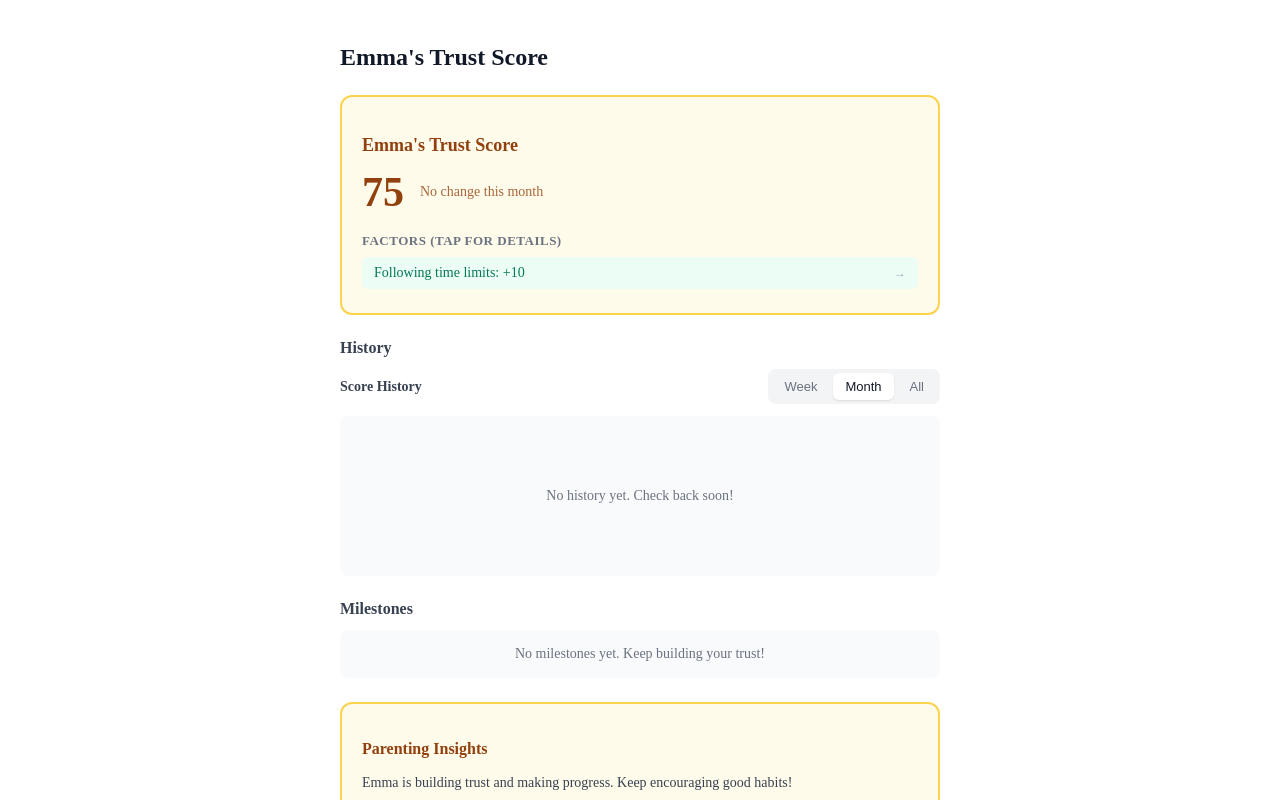
Test: ParentTrustScoreView - Story 36.4 Task 6 › Factor detail modal › should close modal when close button clicked
// Open modal
Click the button with test id "parent-factor-0" at (449, 273), box left=362, top=257, right=918, bottom=289
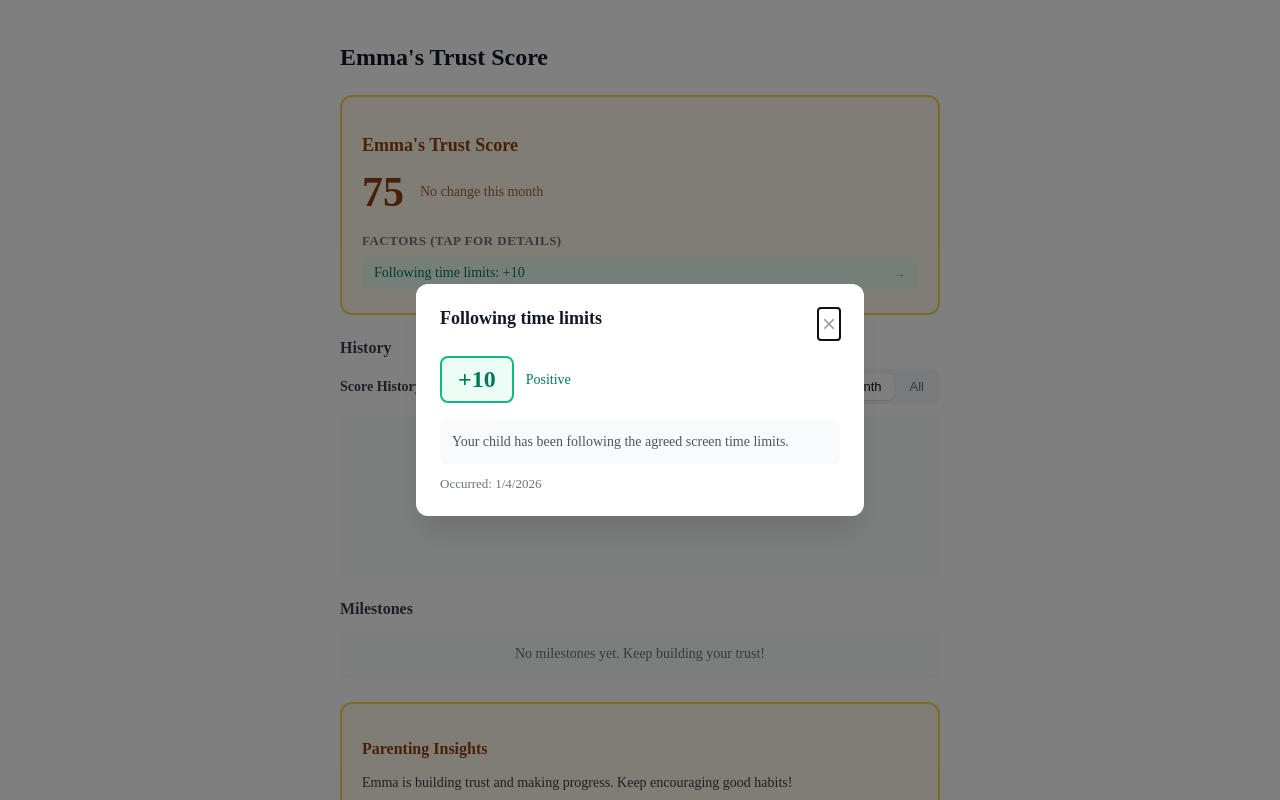
Now the element with test id "factor-detail-modal" is shown
// Close modal
Click the button with test id "modal-close-button" at (829, 324), box left=818, top=308, right=840, bottom=340
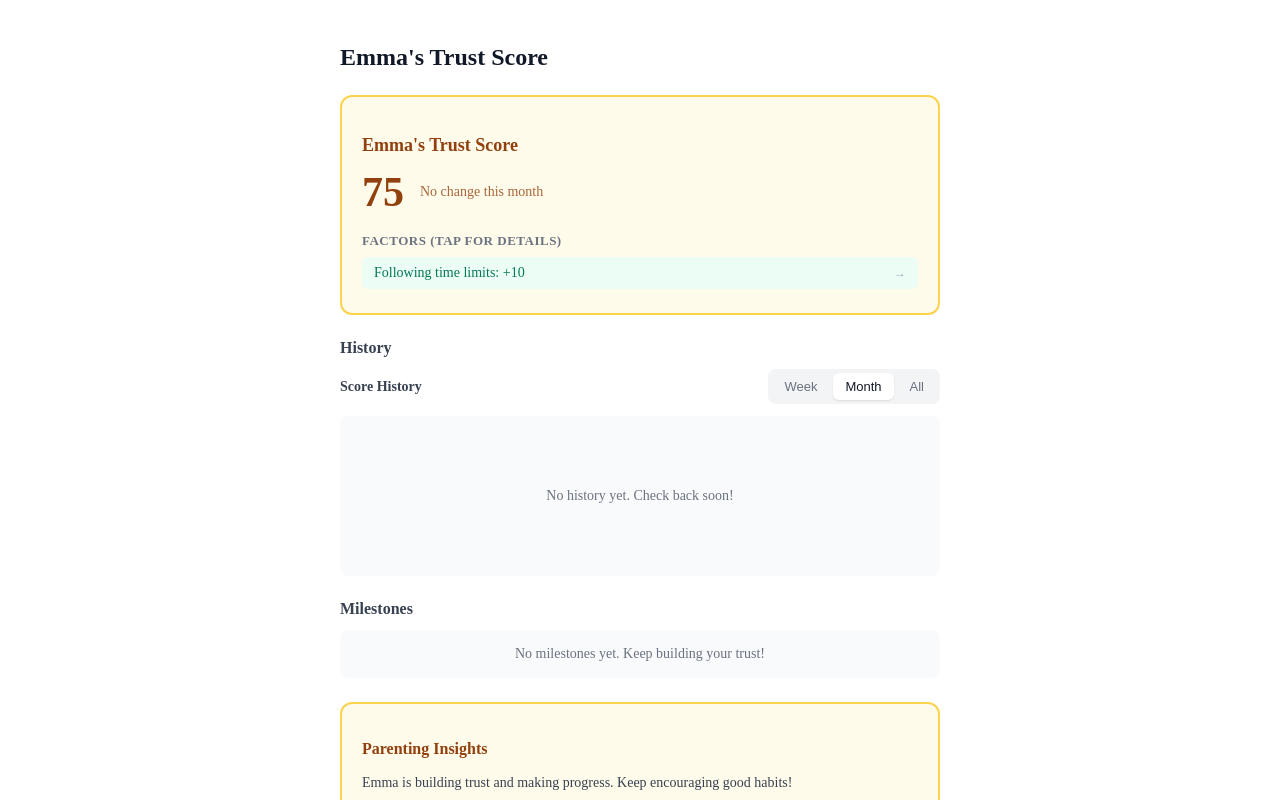
Now the element with test id "factor-detail-modal" is gone
